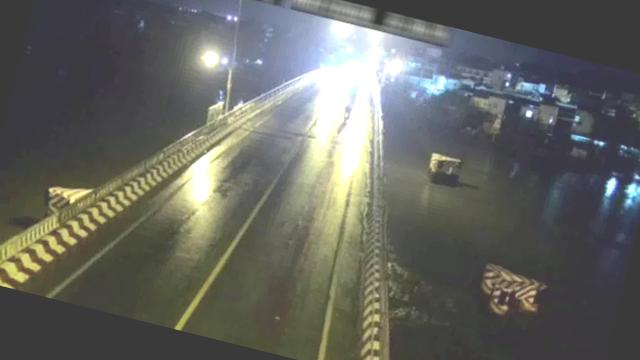Bike: (340, 102, 355, 127)
